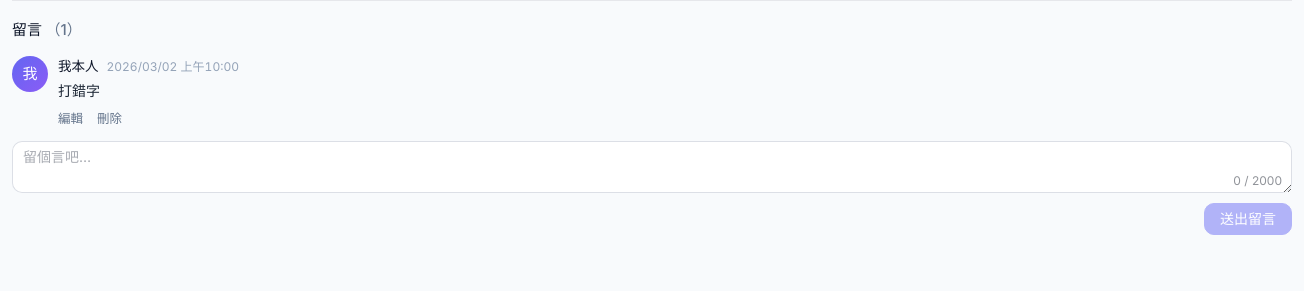
it: CommentThread › edits an own comment via api.update
Click the button with test id "comment-edit": (70, 118) x1=58 y1=108 x2=83 y2=127
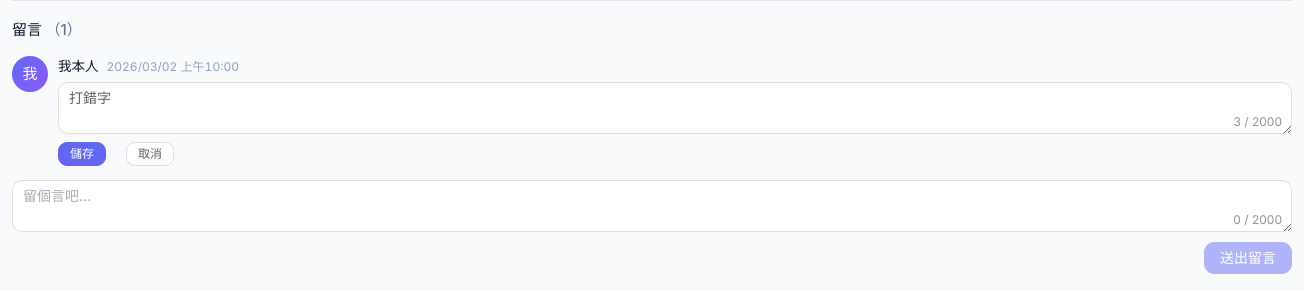
Replace the text in the 1st text box with "更正了": (675, 108) x1=58 y1=82 x2=1292 y2=134
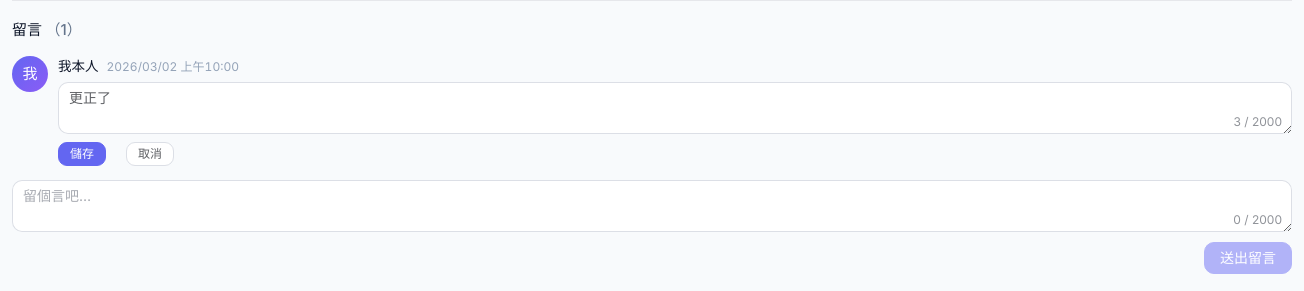
Click the button with test id "comment-edit-save": (82, 154) x1=58 y1=142 x2=106 y2=166
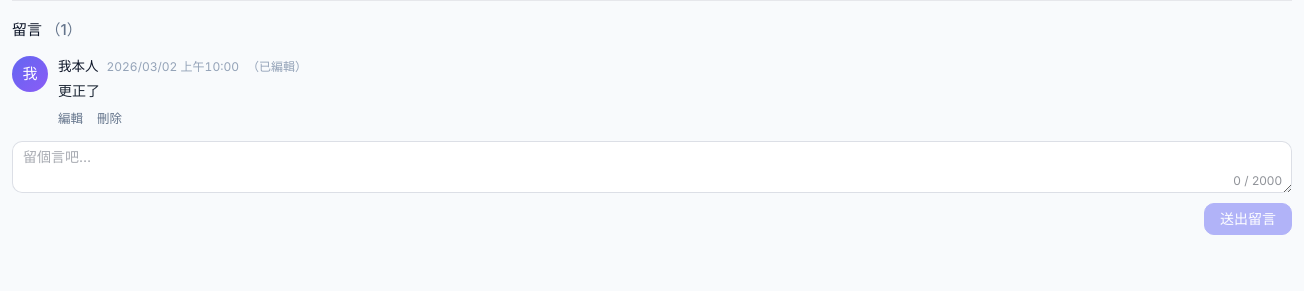
Now the text with test id "comment-body" reads "更正了", box x1=58 y1=82 x2=100 y2=99
